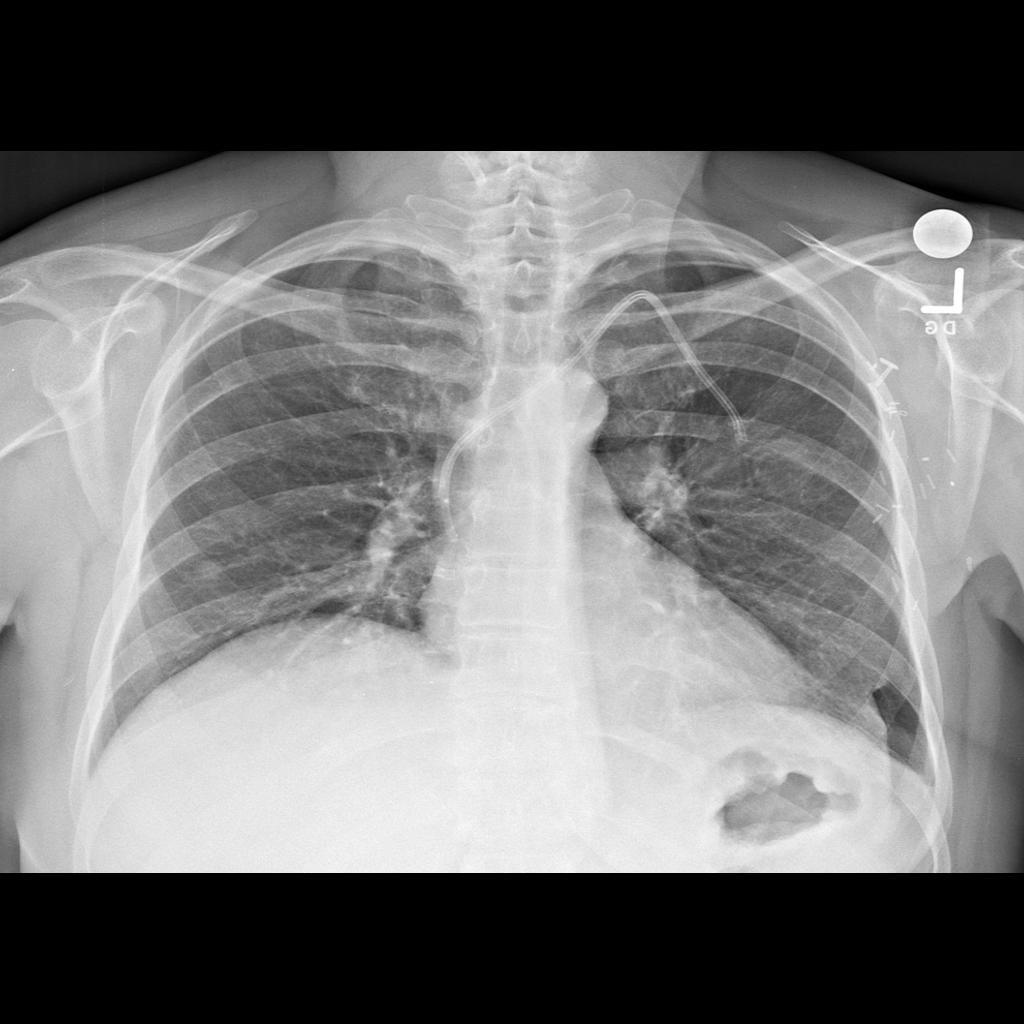Nodule: (198, 560, 226, 583)
